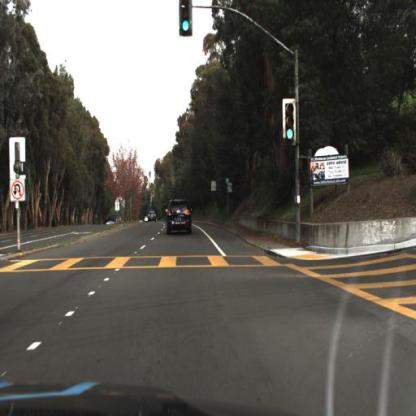car: (162, 196, 195, 239), (147, 206, 161, 228), (146, 208, 159, 228)
trafficLight-Green: (282, 96, 300, 148), (284, 126, 296, 144)
